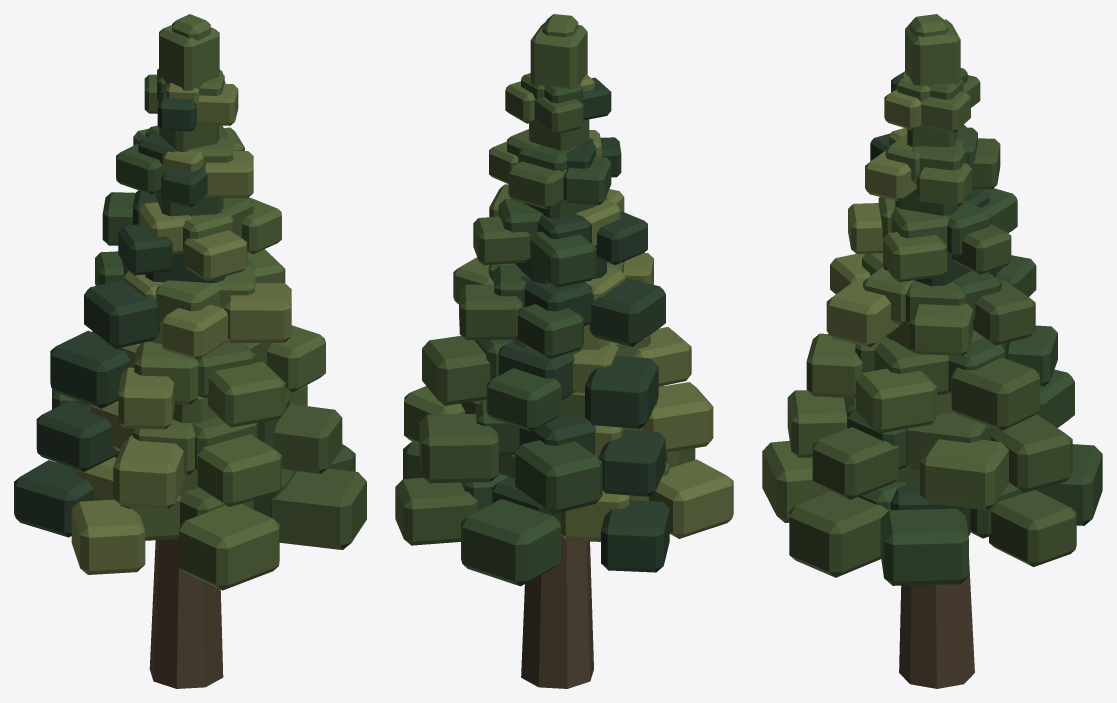
File: pine_ancient_3.glb
The picture shows the model from 3 angles, left to right: view 1: azimuth 30°, elevation 25°; view 2: azimuth 150°, elevation 25°; view 3: azimuth 270°, elevation 25°; orthographic projection.
Parts seen in each view (by area): view 1: pine_ancient_3; view 2: pine_ancient_3; view 3: pine_ancient_3.
Boxes of the visible parts, left/top/right/bottom form: pine_ancient_3: left=14, top=14, right=366, bottom=688; pine_ancient_3: left=395, top=14, right=733, bottom=688; pine_ancient_3: left=762, top=14, right=1102, bottom=688.
Size of the model in its own units: 12.42 by 27 by 12.74.
